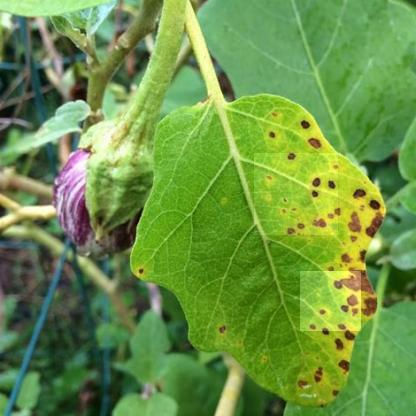black-spot: (254, 153, 338, 235), (300, 272, 361, 332)
